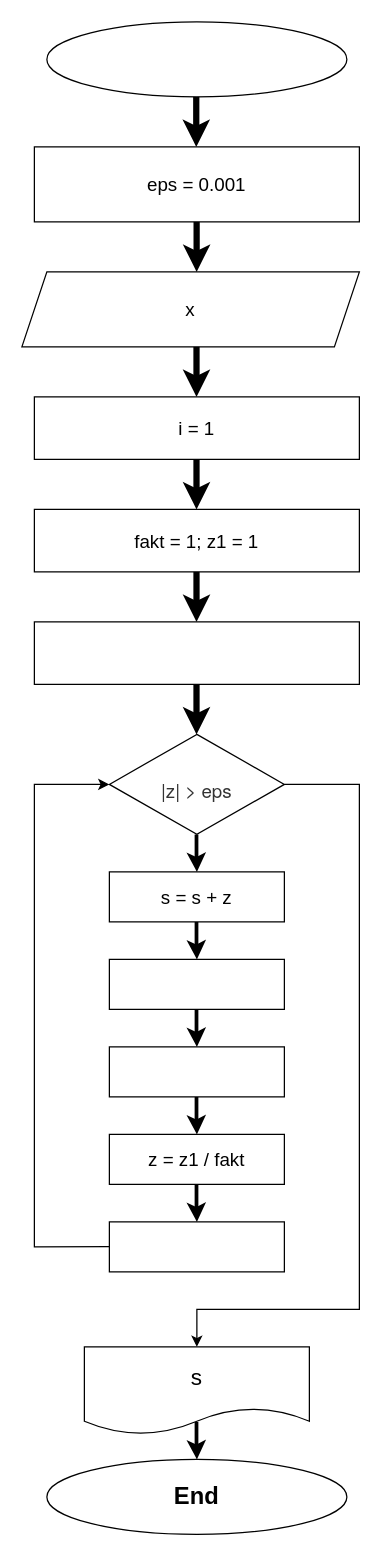
Some shapes in this 391 by 1556 pixel diagram are drawn without their labels. The shapes that lost their labels are listed below. From the top down, each one's centre as x and y in pixels, then its label:
point 196,59: Begin
point 196,652: s = 0; z = 1
point 196,983: z1 = z1 * x
point 196,1071: fakt = fakt * i
point 196,1246: i = i + 1
